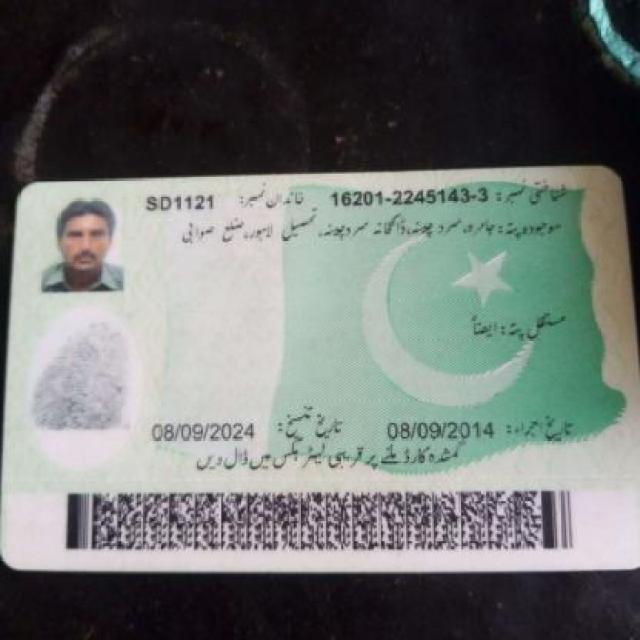Back: (8, 169, 624, 563)
